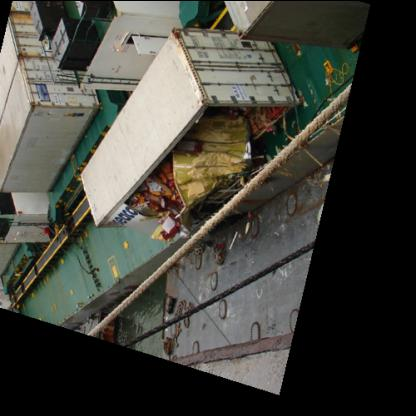Damage: (112, 57, 276, 239)
